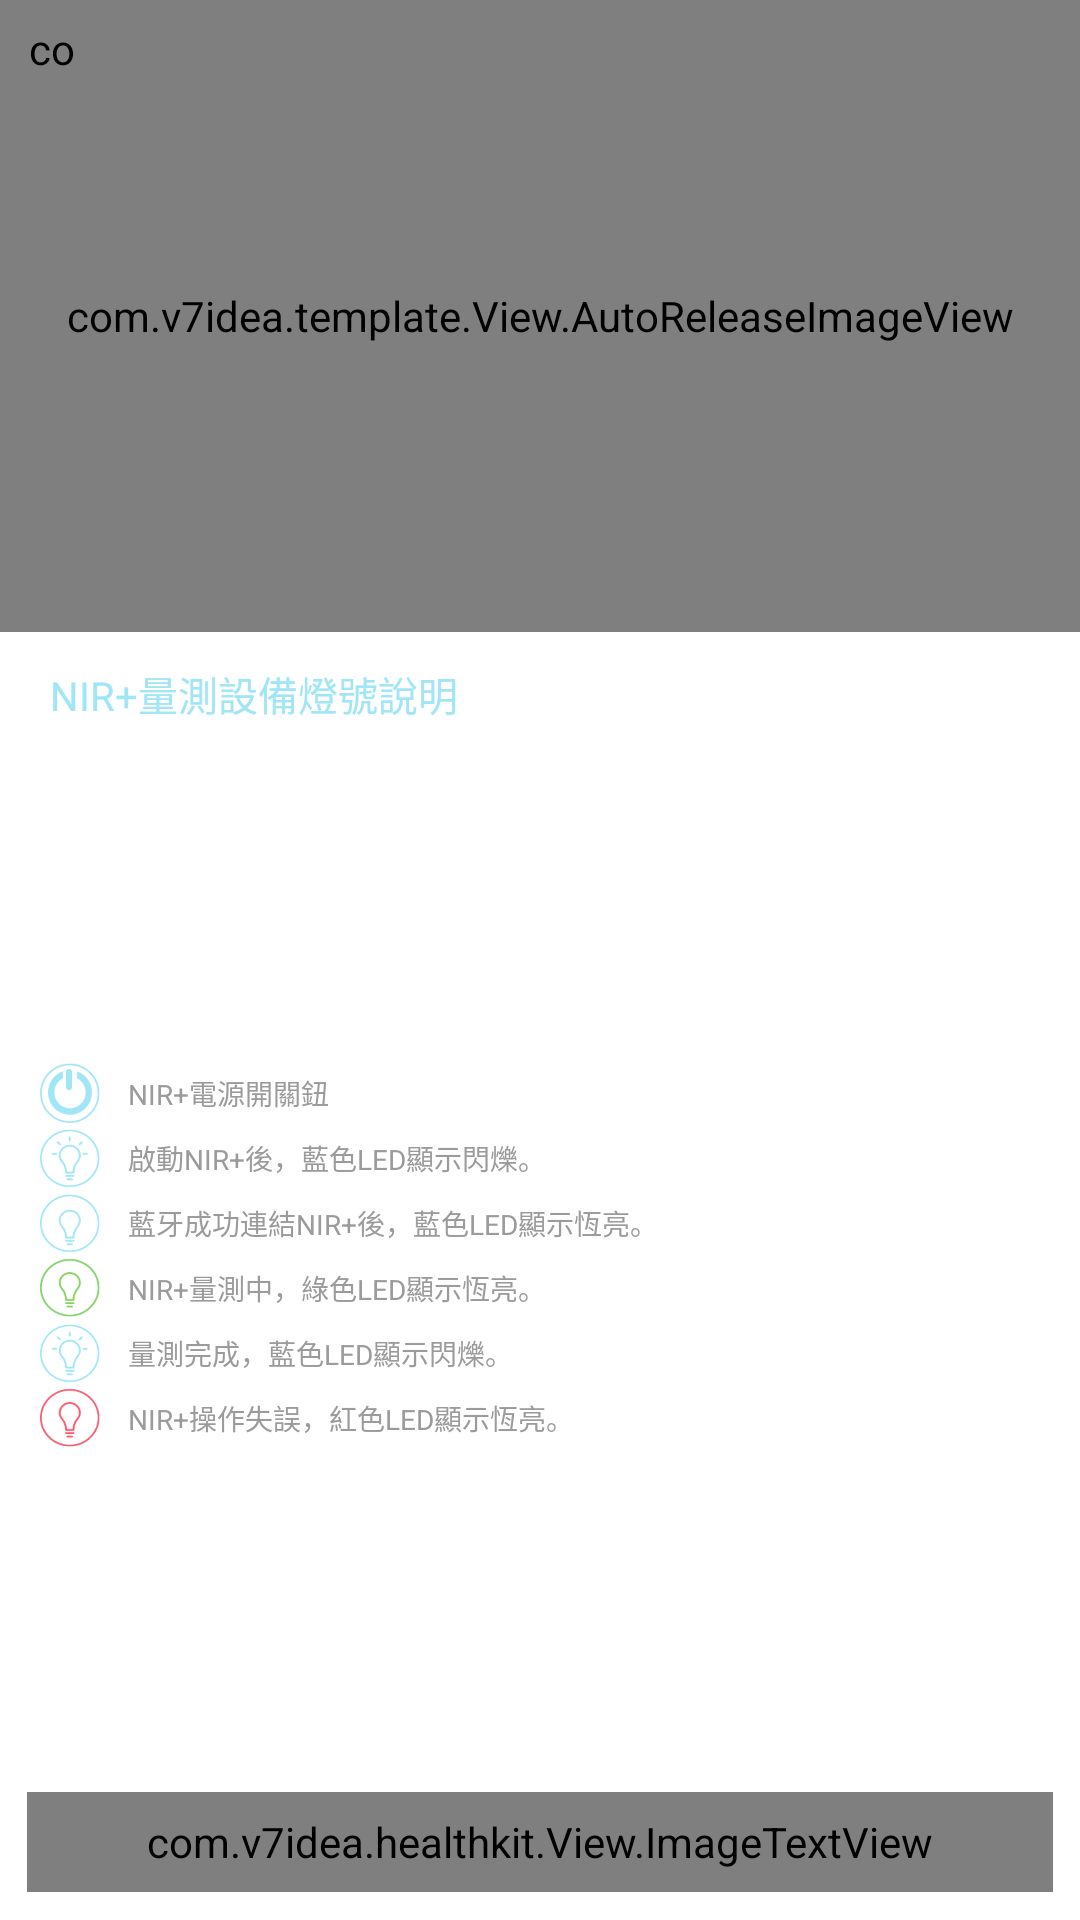

Icon bounding boxes for this 1080 x 1920 phone screenshot, format (left=x1, top=y1, right=x2, bottom=y2):
power: (left=40, top=1063, right=100, bottom=1123)
